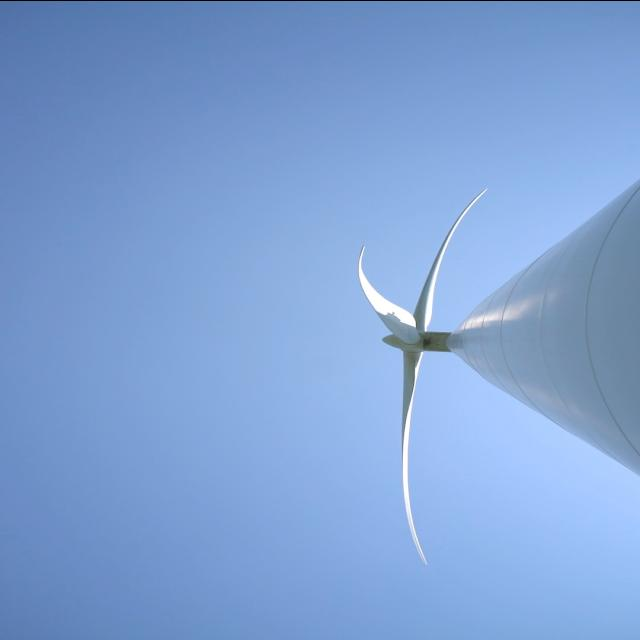blade 1: (380, 361, 430, 601)
blade 2: (350, 222, 410, 334)
blade 3: (422, 180, 498, 274)
